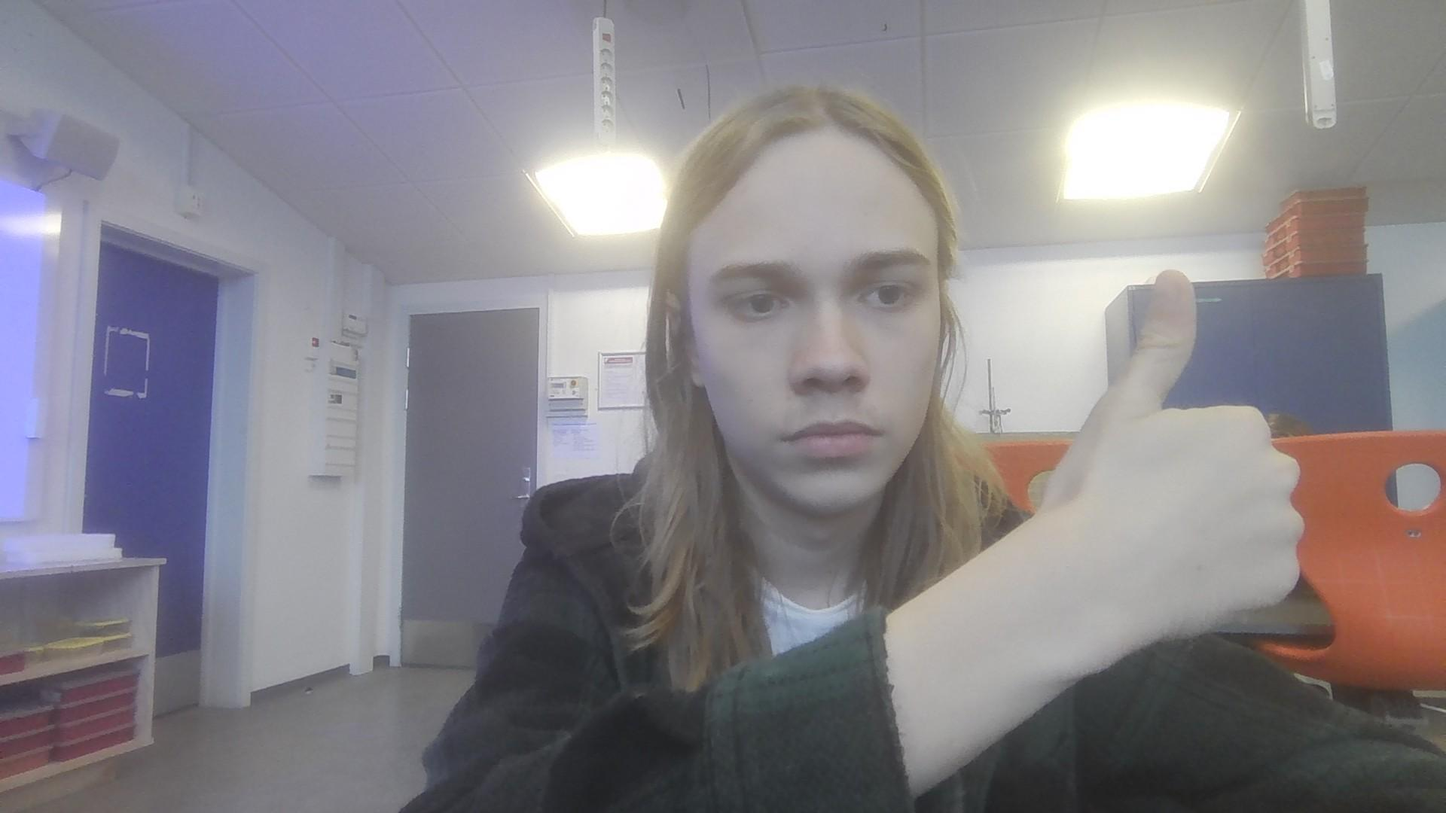thumbs up: (1037, 264, 1308, 631)
